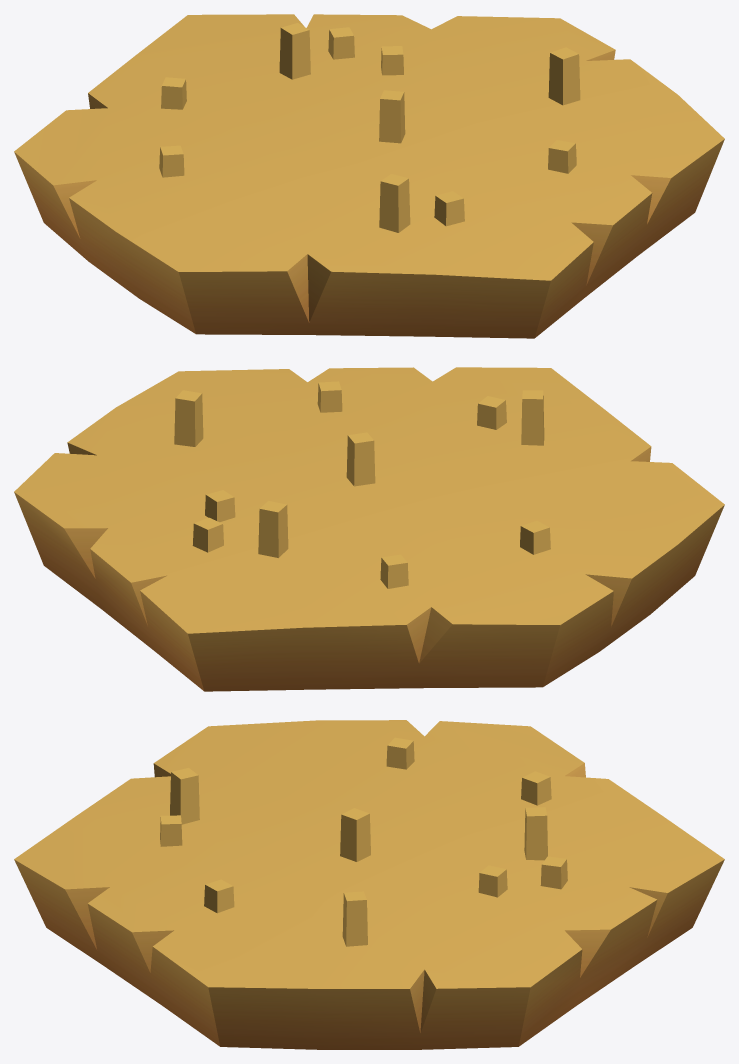
Rendered from building_grain.glb.
3 views of the same model, one above another, from view 1: azimuth 30°, elevation 25°; view 2: azimuth 150°, elevation 25°; view 3: azimuth 270°, elevation 25° (orthographic). The views are drawn at different scales.
Visible parts, largest first — view 1: building_grain; view 2: building_grain; view 3: building_grain.
Part boxes in pixels (box(x1,y1,x2,y2)): building_grain: box(14, 14, 724, 338); building_grain: box(14, 367, 724, 691); building_grain: box(14, 720, 724, 1049).
Size of the model in its own units: 1.87 by 0.3938 by 2.09.
1 material, 1 textured.
